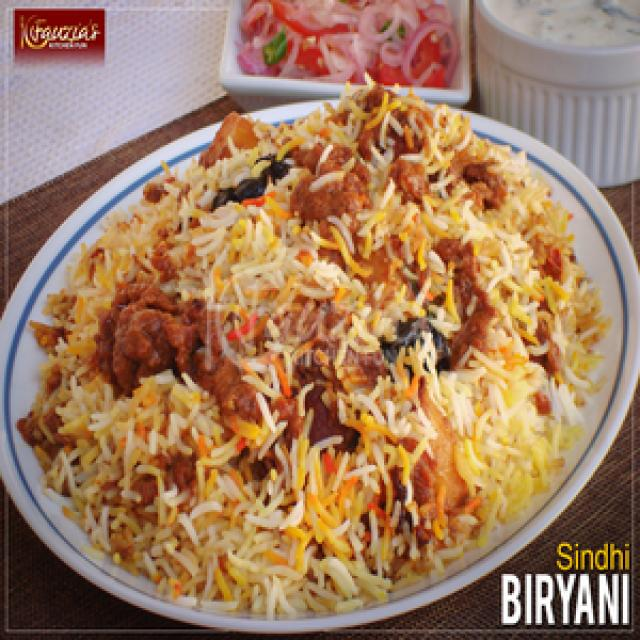chicken biriyani: (6, 76, 614, 632)
